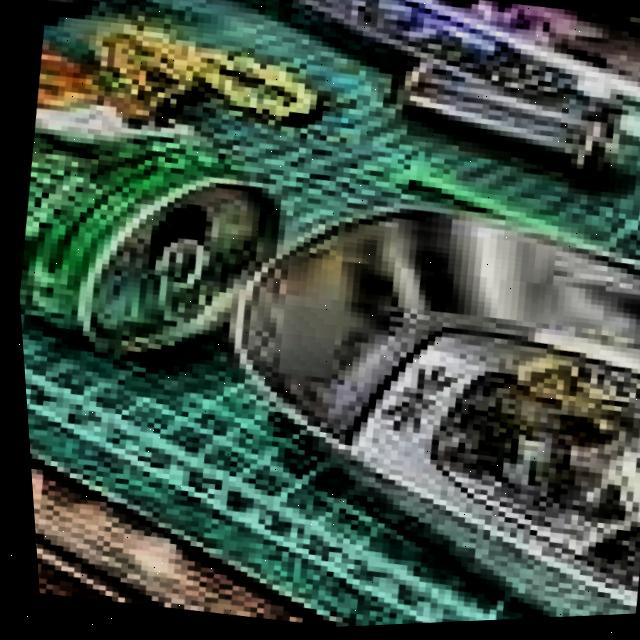metal: (0, 0, 341, 414)
